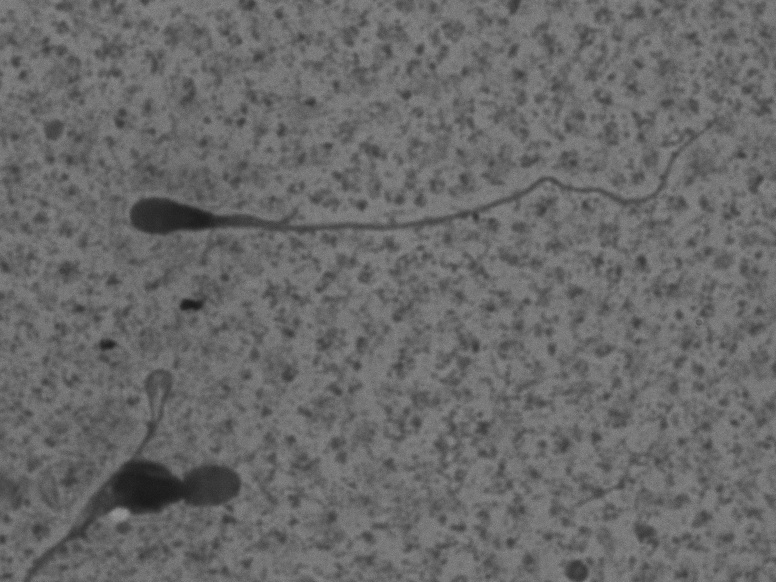Abnormal: (99, 105, 733, 272), (14, 363, 194, 571)
